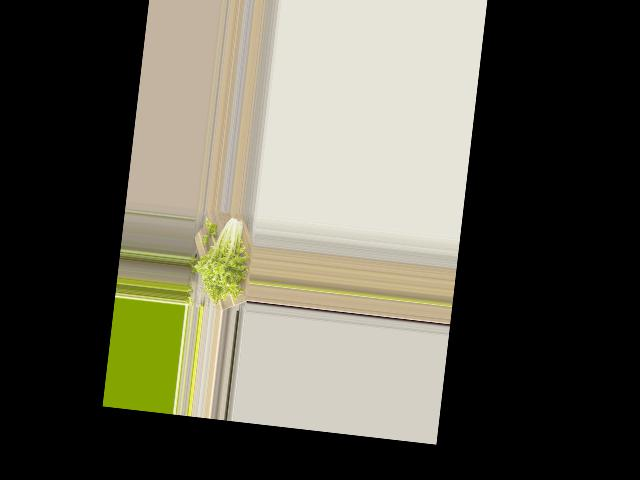lettuce: (192, 209, 254, 304)
